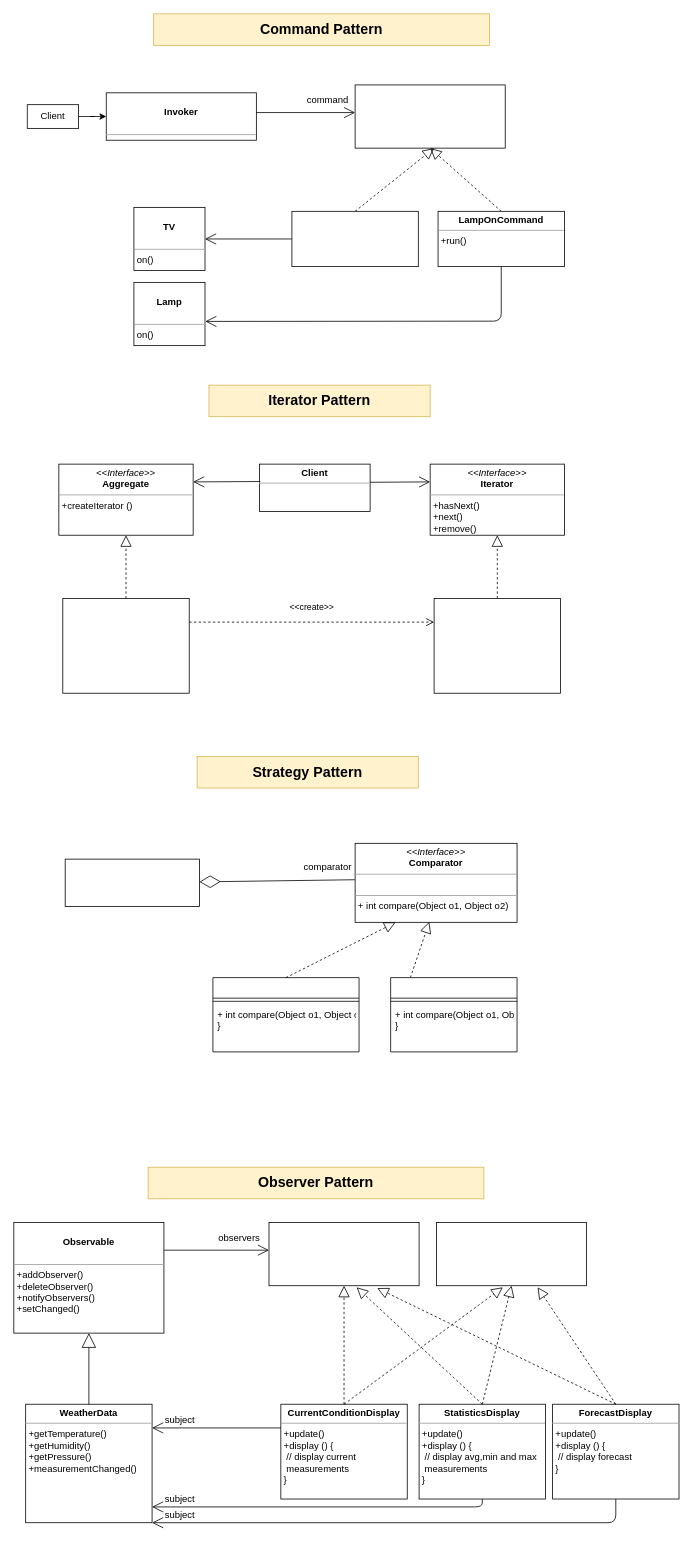
This 693x1548 diagram has some shape labels left out. The box of each missing label's shape, as (x1, y1, x2, y2) in pixels:
<<Interface>> DisplayElement +display(): (436, 1222, 587, 1286)
<<Interface>> Observer +update(): (268, 1222, 419, 1286)
<<Interface>> Runnable +run(): (354, 84, 505, 148)
ConcreteAggregate +createIterator (): (62, 598, 189, 693)
ConcreteComaprator1: (212, 977, 359, 1052)
ConcreteComaprator2: (390, 977, 517, 1052)
ConcreteIterator +hasNext() +next() +remove(): (433, 598, 561, 693)
List - list: ArrayList: (64, 858, 199, 907)
TVOnCommand +run(): (291, 211, 418, 267)
